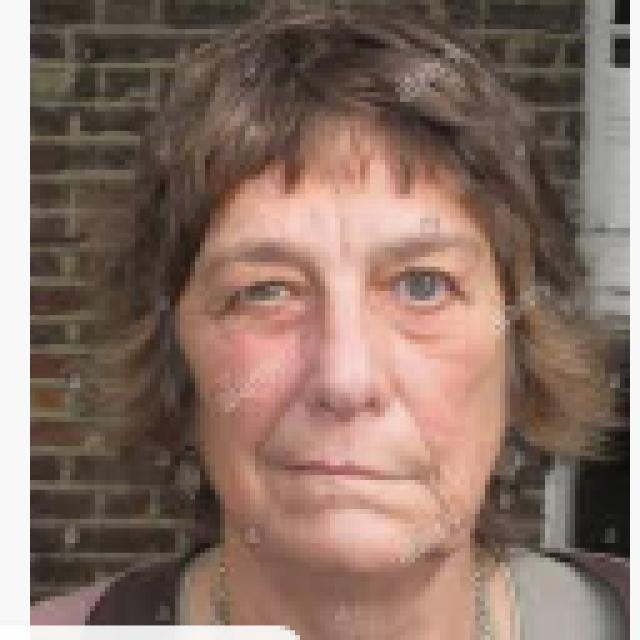stroke_face: (164, 29, 526, 600)
